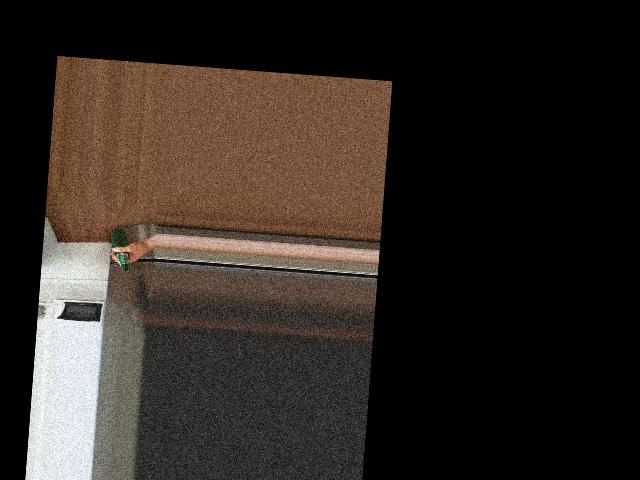beer: (108, 227, 133, 271)
